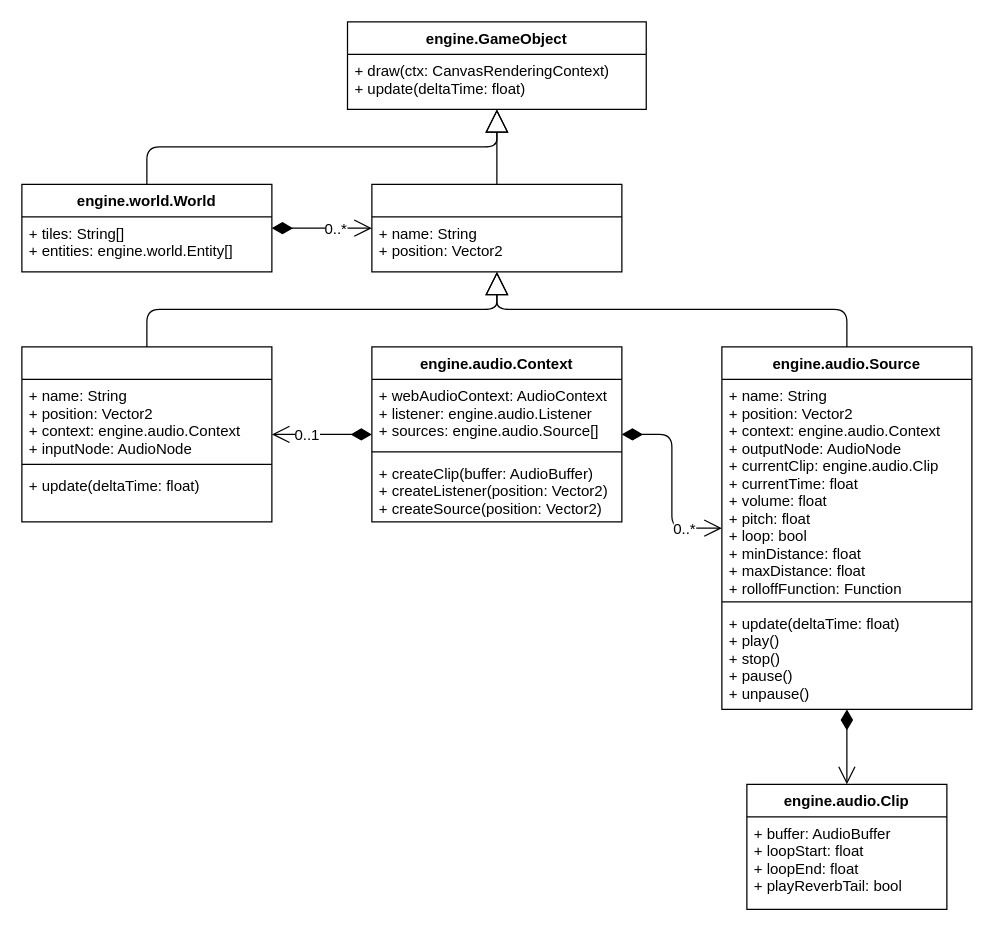
The diagram is 994 pixels wide and 935 high, and some of its shapes have lost their labels. Each missing label, with the box of its shape:
engine.audio.Listener: (21, 346, 272, 522)
engine.world.Entity: (371, 183, 622, 272)
